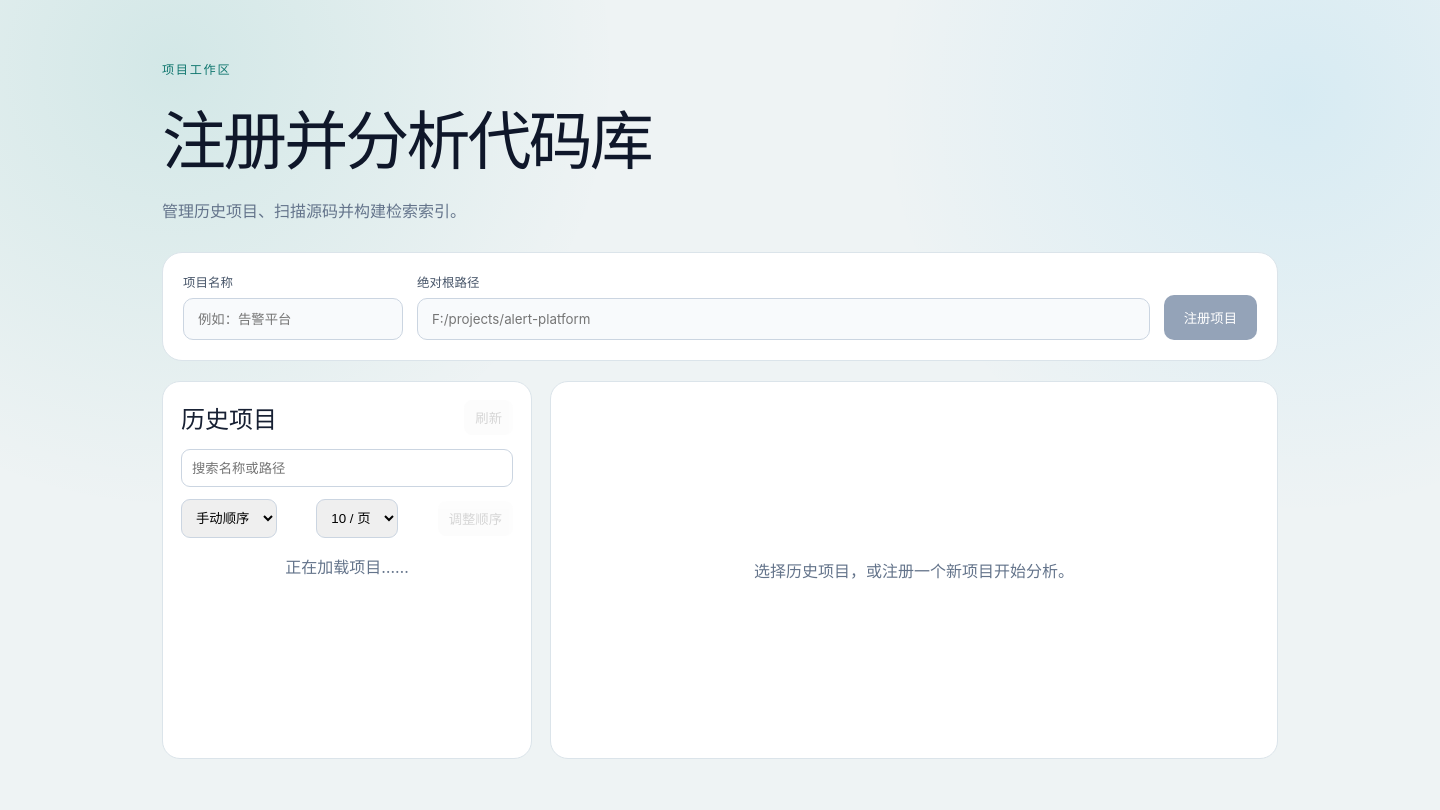
Scenario: ProjectView › requires a name and root path before registration
Expected: the button with test id "register" is disabled, x1=1164 y1=295 x2=1257 y2=340
Type "Demo" into the field with test id "project-name" at (293, 319), box x1=183 y1=298 x2=403 y2=340
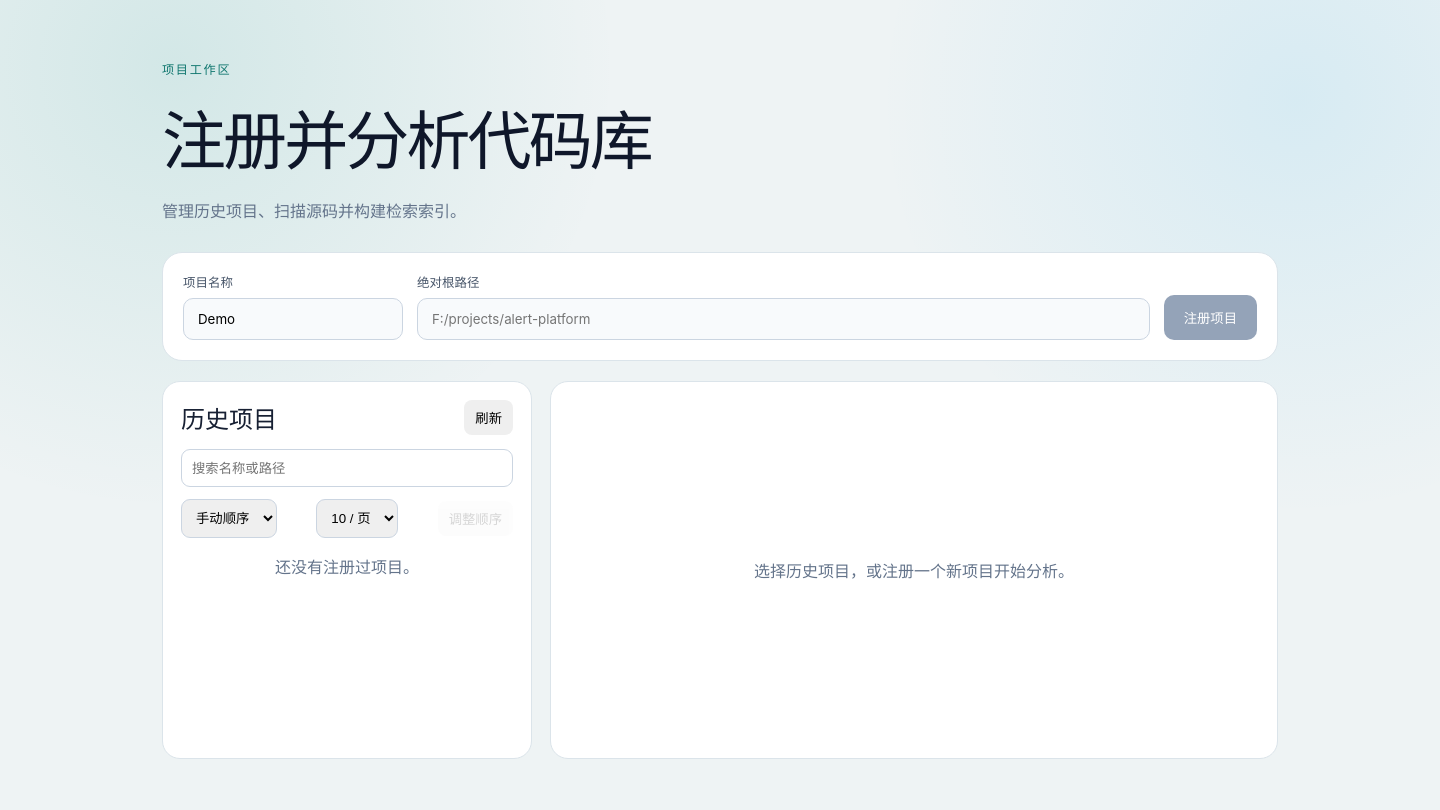
Type "F:/demo" into the field with test id "root-path" at (783, 319), box x1=417 y1=298 x2=1150 y2=340
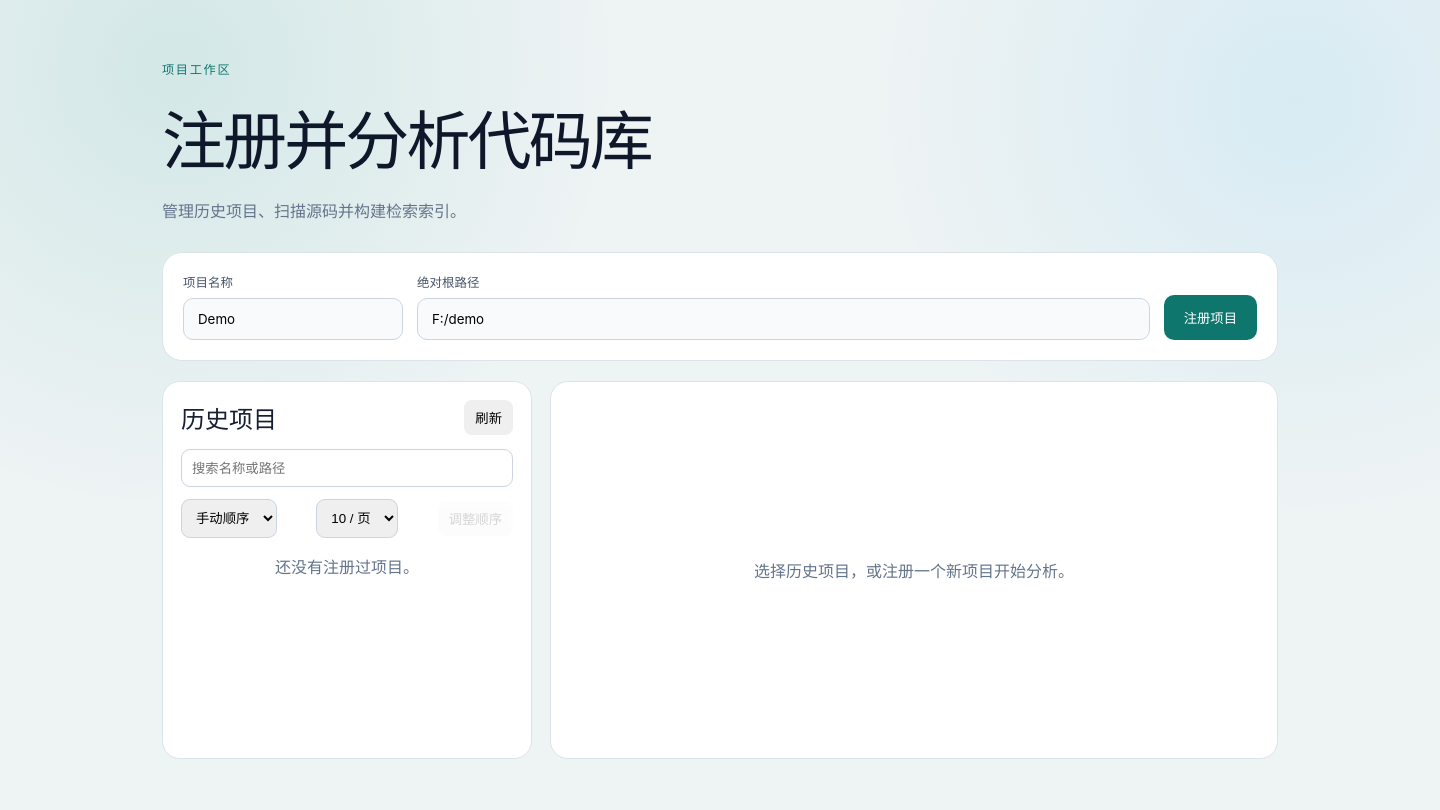
Expected: the button with test id "register" is enabled, x1=1164 y1=295 x2=1257 y2=340
